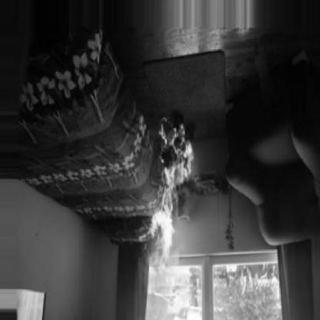Fire: (149, 117, 202, 279)
